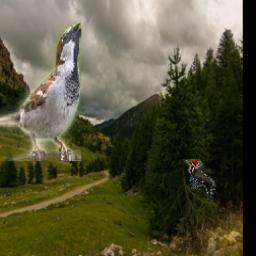Sparrow: (0, 22, 82, 162)
Woodpecker: (183, 160, 215, 204)
